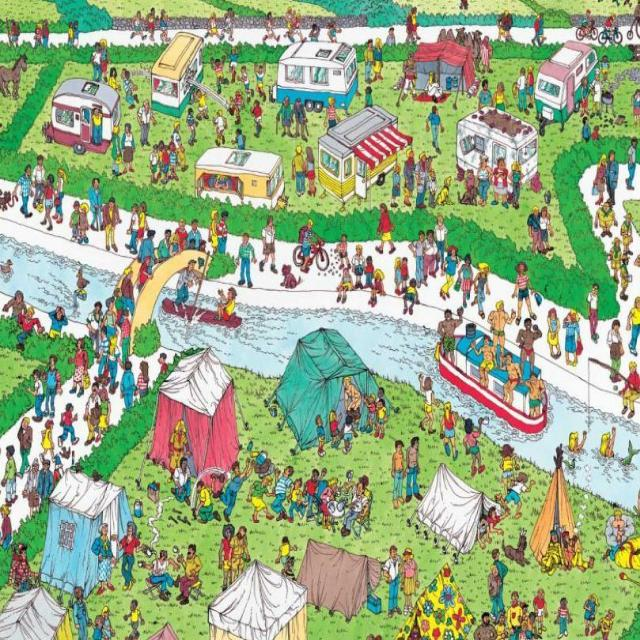waldo: (17, 543, 28, 560)
